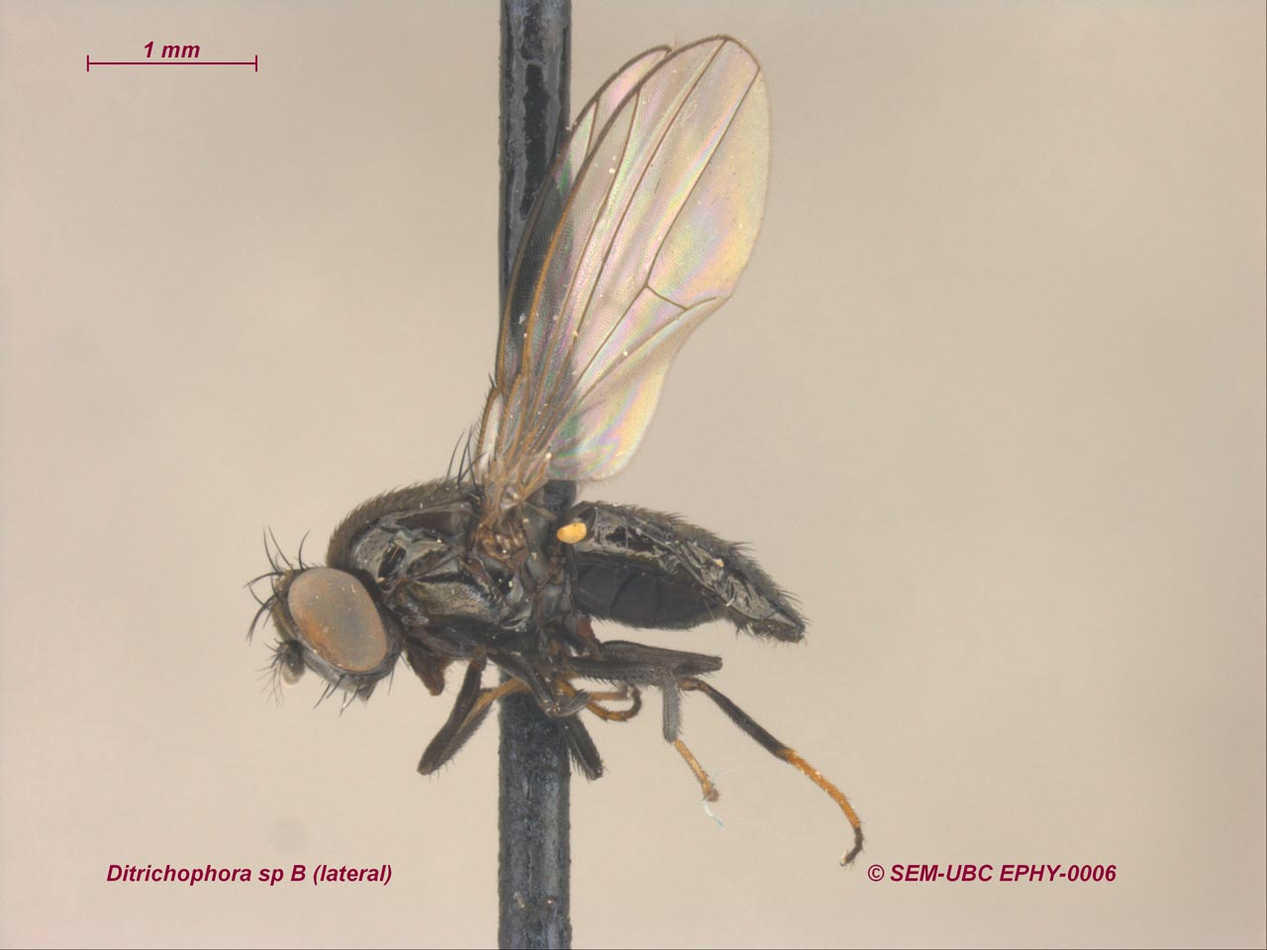Ephydridae: (236, 30, 864, 865)
